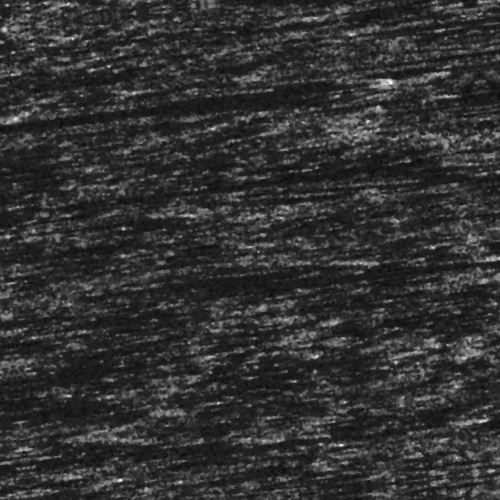object: (340, 89, 423, 104), (410, 439, 451, 450), (387, 354, 398, 387), (453, 282, 500, 289), (486, 178, 500, 183)
shadow: (0, 89, 381, 104), (252, 354, 393, 387), (151, 439, 430, 450), (308, 282, 500, 295), (90, 178, 500, 183), (207, 282, 485, 289), (446, 127, 500, 134), (451, 45, 500, 52)
